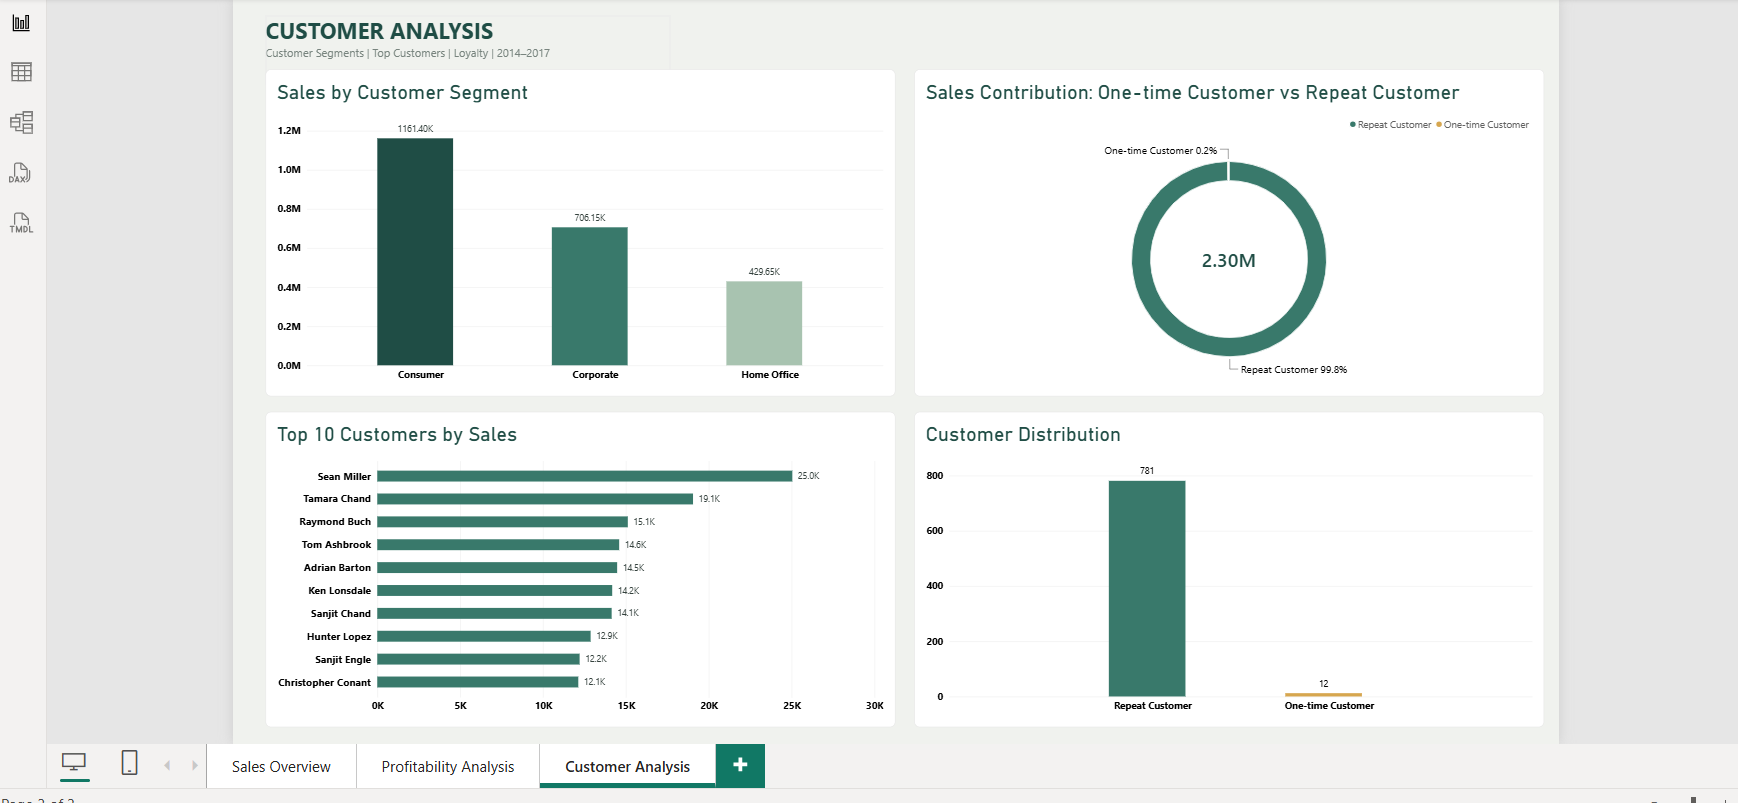

What the dashboard file says about the page in this screenshot:
{"tool":"powerbi","page":{"name":"Customer Analysis","canvas":[1920,1080],"ordinal":2},"visuals":[{"type":"textbox","box":[47.3,24.7,586.6,100.9],"z":0},{"type":"clusteredColumnChart","title":"Sales by Customer Segment","fields":{"Category":["Superstore.Segment"],"Y":["Superstore.Total Sales"]},"box":[47.3,102.9,911.8,473.4],"z":1},{"type":"donutChart","title":"Sales Contribution: One-time Customer vs Repeat Customer","fields":{"Category":["Superstore.Customer Type"],"Y":["Superstore.Total Sales"]},"box":[985.9,102.9,911.8,473.4],"z":2},{"type":"clusteredBarChart","title":"Top 10 Customers by Sales","fields":{"Category":["Superstore.Customer_Name"],"Y":["Superstore.Total Sales"]},"box":[47.3,599,911.8,456.9],"z":3},{"type":"clusteredColumnChart","title":"Customer Distribution","fields":{"Category":["Superstore.Customer Type"],"Y":["Superstore.Total Customers"]},"box":[986,599,912,457],"z":4}]}

Visuals, with their boxes on the page's 1920x1080 design canvas (x1, y1, x2, y2). These are canvas units, not pixel positions in the 1738x803 screenshot, which may show the page scaled, cropped or inside an application window:
textbox: [x1=47, y1=25, x2=634, y2=126]
"Sales by Customer Segment" clusteredColumnChart: [x1=47, y1=103, x2=959, y2=576]
"Sales Contribution: One-time Customer vs Repeat Customer" donutChart: [x1=986, y1=103, x2=1898, y2=576]
"Top 10 Customers by Sales" clusteredBarChart: [x1=47, y1=599, x2=959, y2=1056]
"Customer Distribution" clusteredColumnChart: [x1=986, y1=599, x2=1898, y2=1056]
